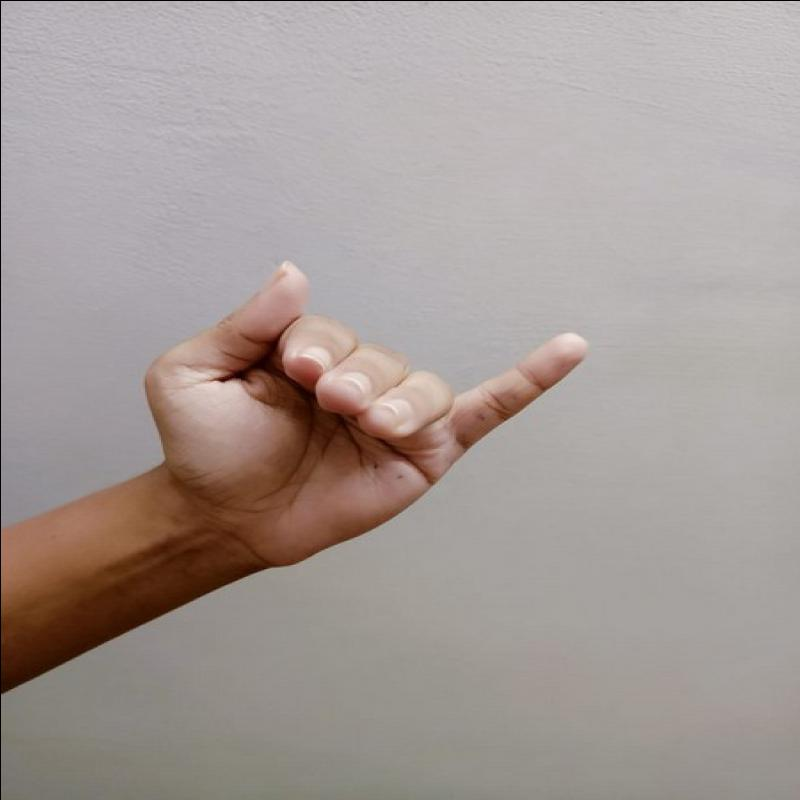Kartharee Mukham: (115, 258, 596, 576)
